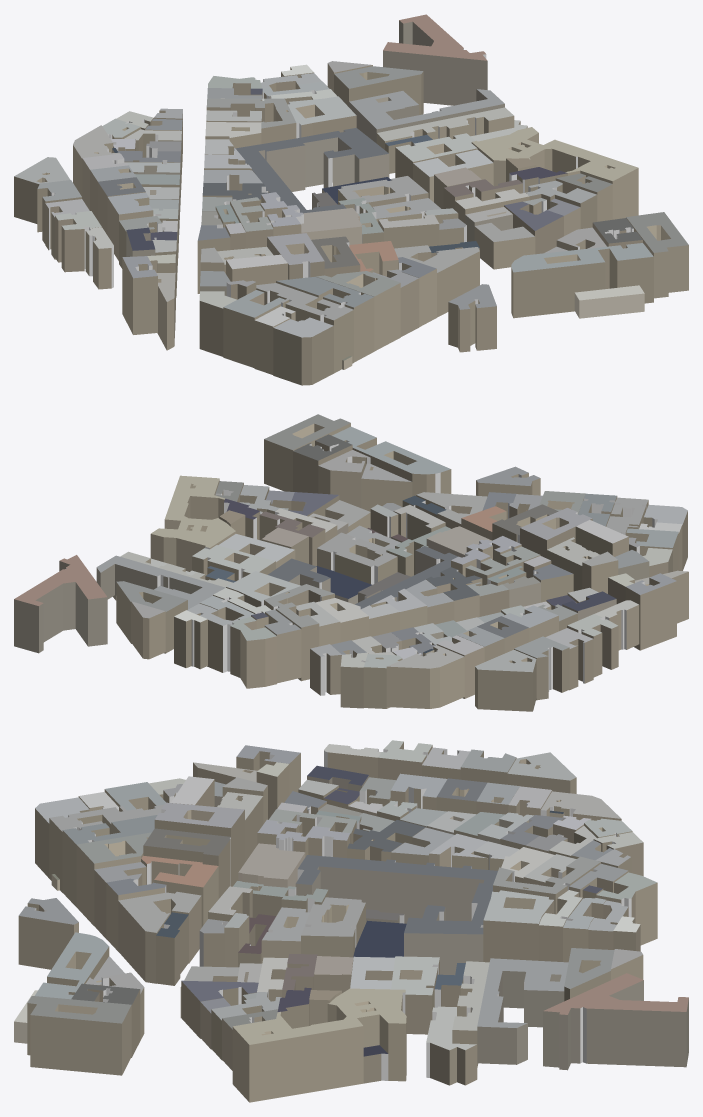
3 renders of one model, top to bottom at view 1: azimuth 30°, elevation 25°; view 2: azimuth 150°, elevation 25°; view 3: azimuth 270°, elevation 25°, orthographic. The views are drawn at different scales.
Parts seen in each view (by area): view 1: tuile; view 2: tuile; view 3: tuile.
Part boxes in pixels (x1,y1,x2,y2): tuile: [14, 14, 688, 385]; tuile: [14, 414, 688, 711]; tuile: [14, 740, 688, 1102].
Size of the model in its own units: 279 by 39.16 by 279.
